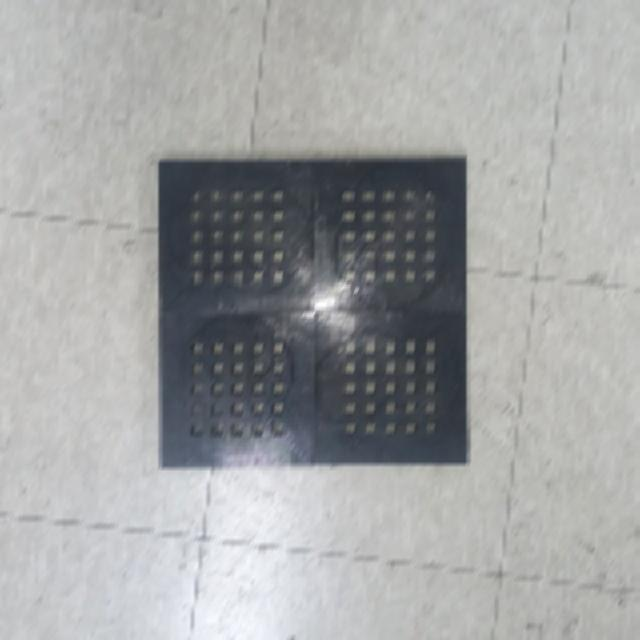pallet: (154, 155, 472, 474)
